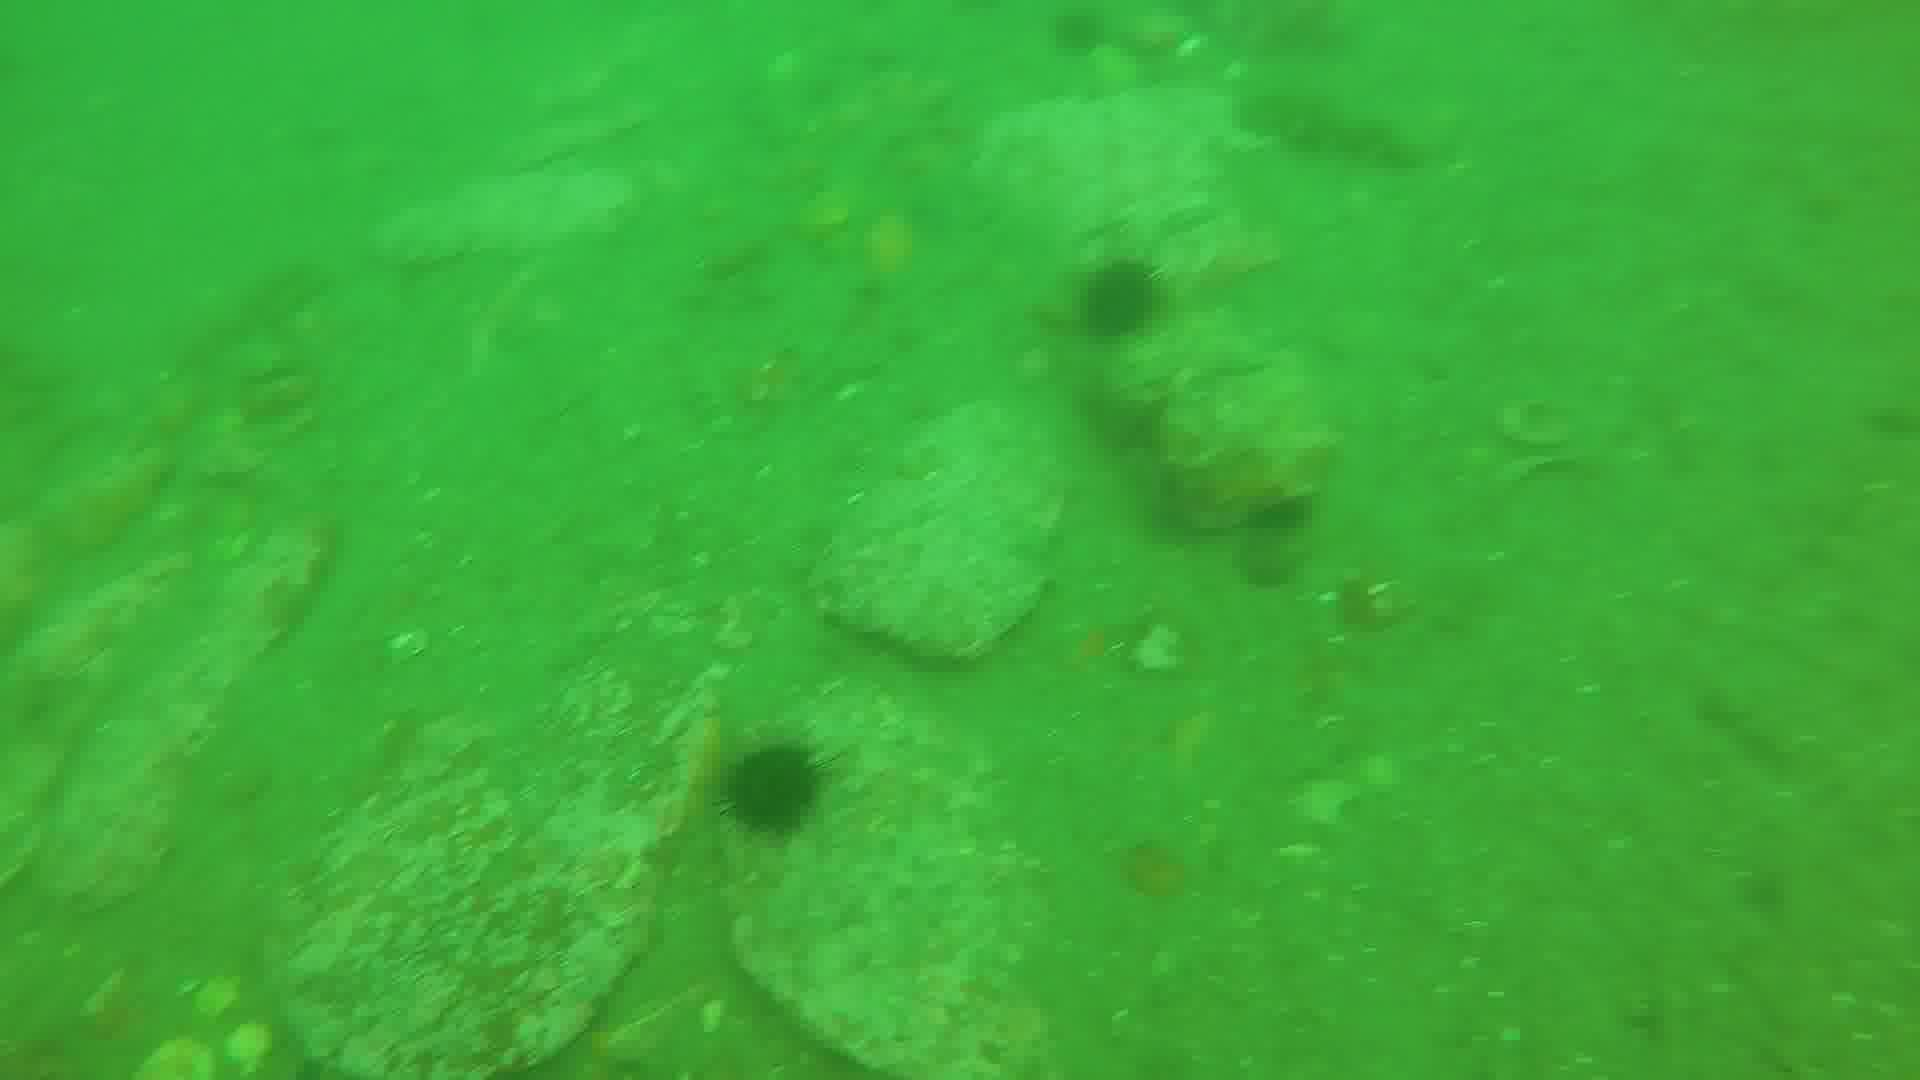echinus: (725, 740, 823, 843), (1080, 256, 1160, 340)
holothurian: (1224, 66, 1425, 170)
